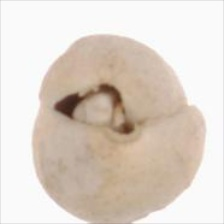L3: (51, 81, 140, 142)
L4: (32, 35, 205, 223)
